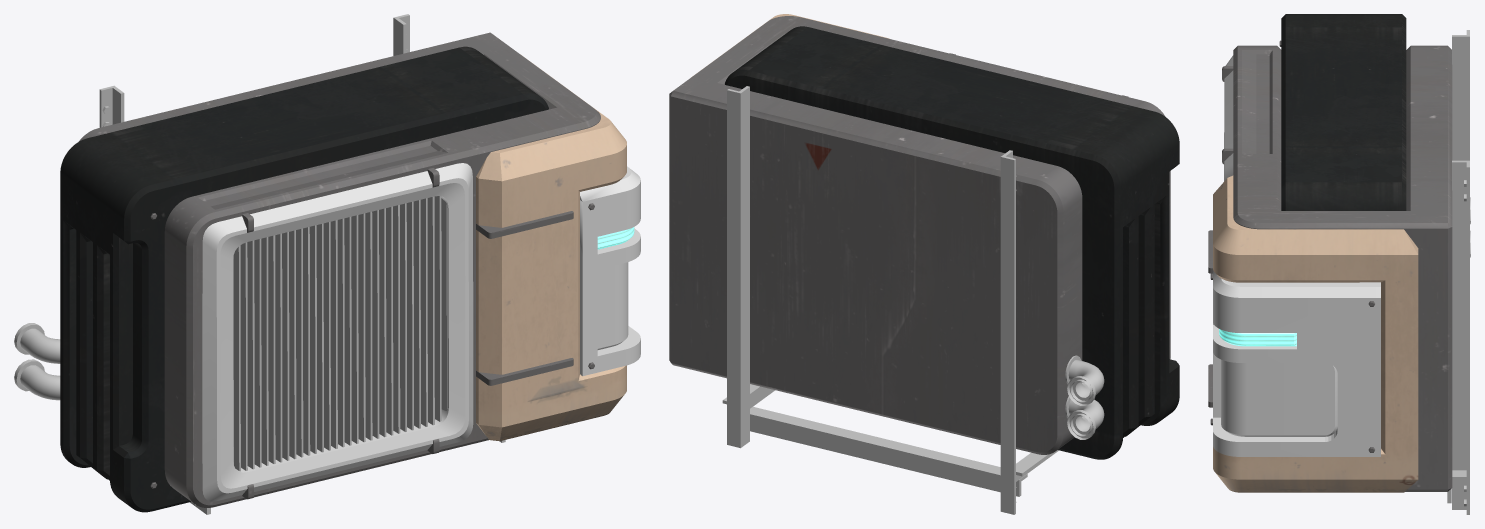
The model's file is KB3D_CBP_UtilityDevice_C.fbx.
The picture shows the model from 3 angles, left to right: view 1: azimuth 30°, elevation 25°; view 2: azimuth 150°, elevation 25°; view 3: azimuth 270°, elevation 25°; orthographic projection. The views are drawn at different scales.
Parts seen in each view (by area): view 1: KB3D_CBP_UtilityDevice_C_Main; view 2: KB3D_CBP_UtilityDevice_C_Main; view 3: KB3D_CBP_UtilityDevice_C_Main.
Boxes of the visible parts, x1,y1,x2,y2 form: KB3D_CBP_UtilityDevice_C_Main: (14,14,640,514); KB3D_CBP_UtilityDevice_C_Main: (669,14,1179,514); KB3D_CBP_UtilityDevice_C_Main: (1208,14,1470,514).
Bounding box in the file's own units: 133 × 96.85 × 66.26.
